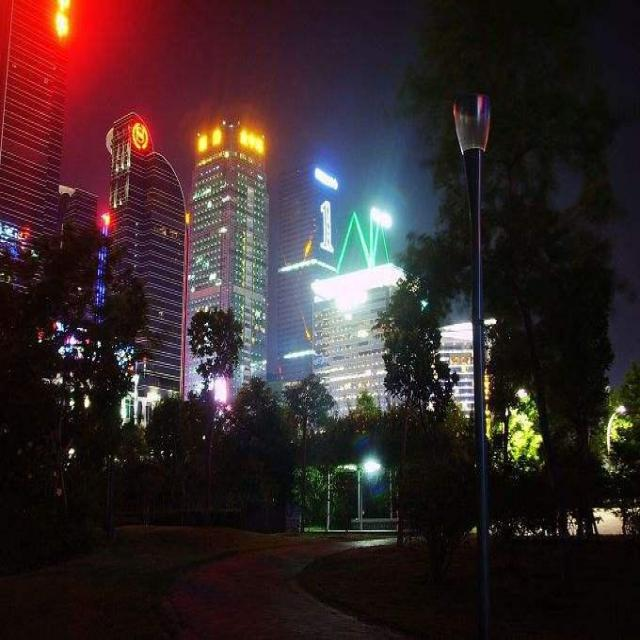other: (196, 116, 280, 166), (44, 4, 76, 49), (128, 110, 146, 157)
